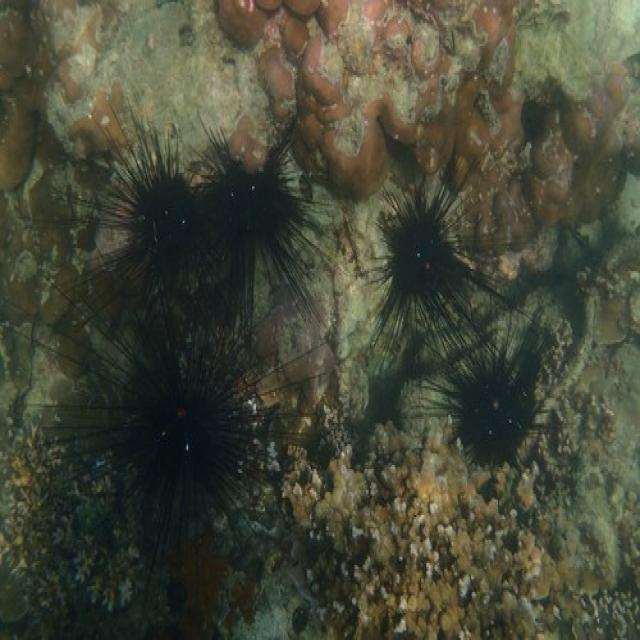Urchin: (77, 317, 280, 554), (370, 140, 514, 344), (198, 123, 329, 309), (421, 317, 562, 481), (92, 110, 211, 302)
